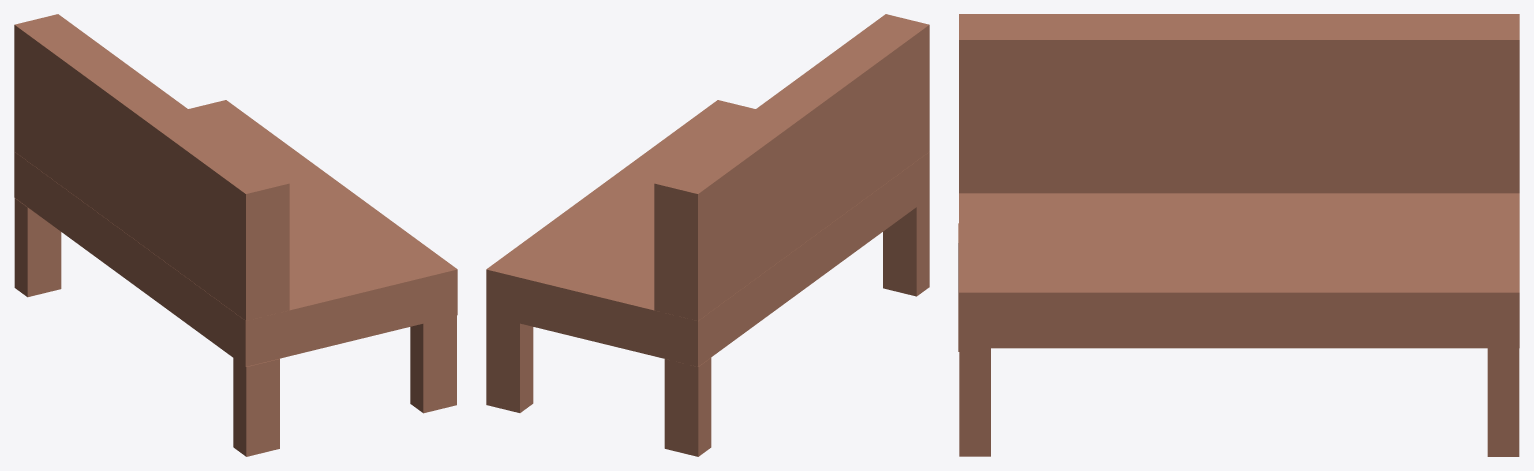
The model's file is Bench_new.fbx.
3 renders of one model, left to right at view 1: azimuth 30°, elevation 25°; view 2: azimuth 150°, elevation 25°; view 3: azimuth 270°, elevation 25°, orthographic. The views are drawn at different scales.
Visible parts, largest first — view 1: Cube; view 2: Cube; view 3: Cube.
Boxes of the visible parts, x1,y1,x2,y2 form: Cube: [14, 14, 457, 456]; Cube: [486, 14, 929, 456]; Cube: [958, 14, 1519, 456].
Bounding box in the file's own units: 169 × 200 × 320.
